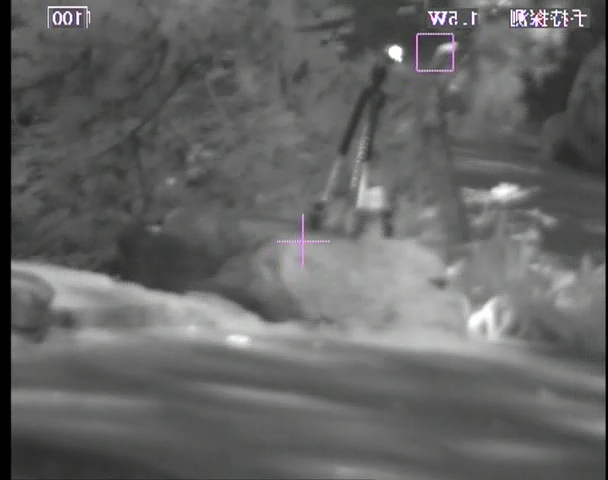my: (387, 43, 403, 62)
